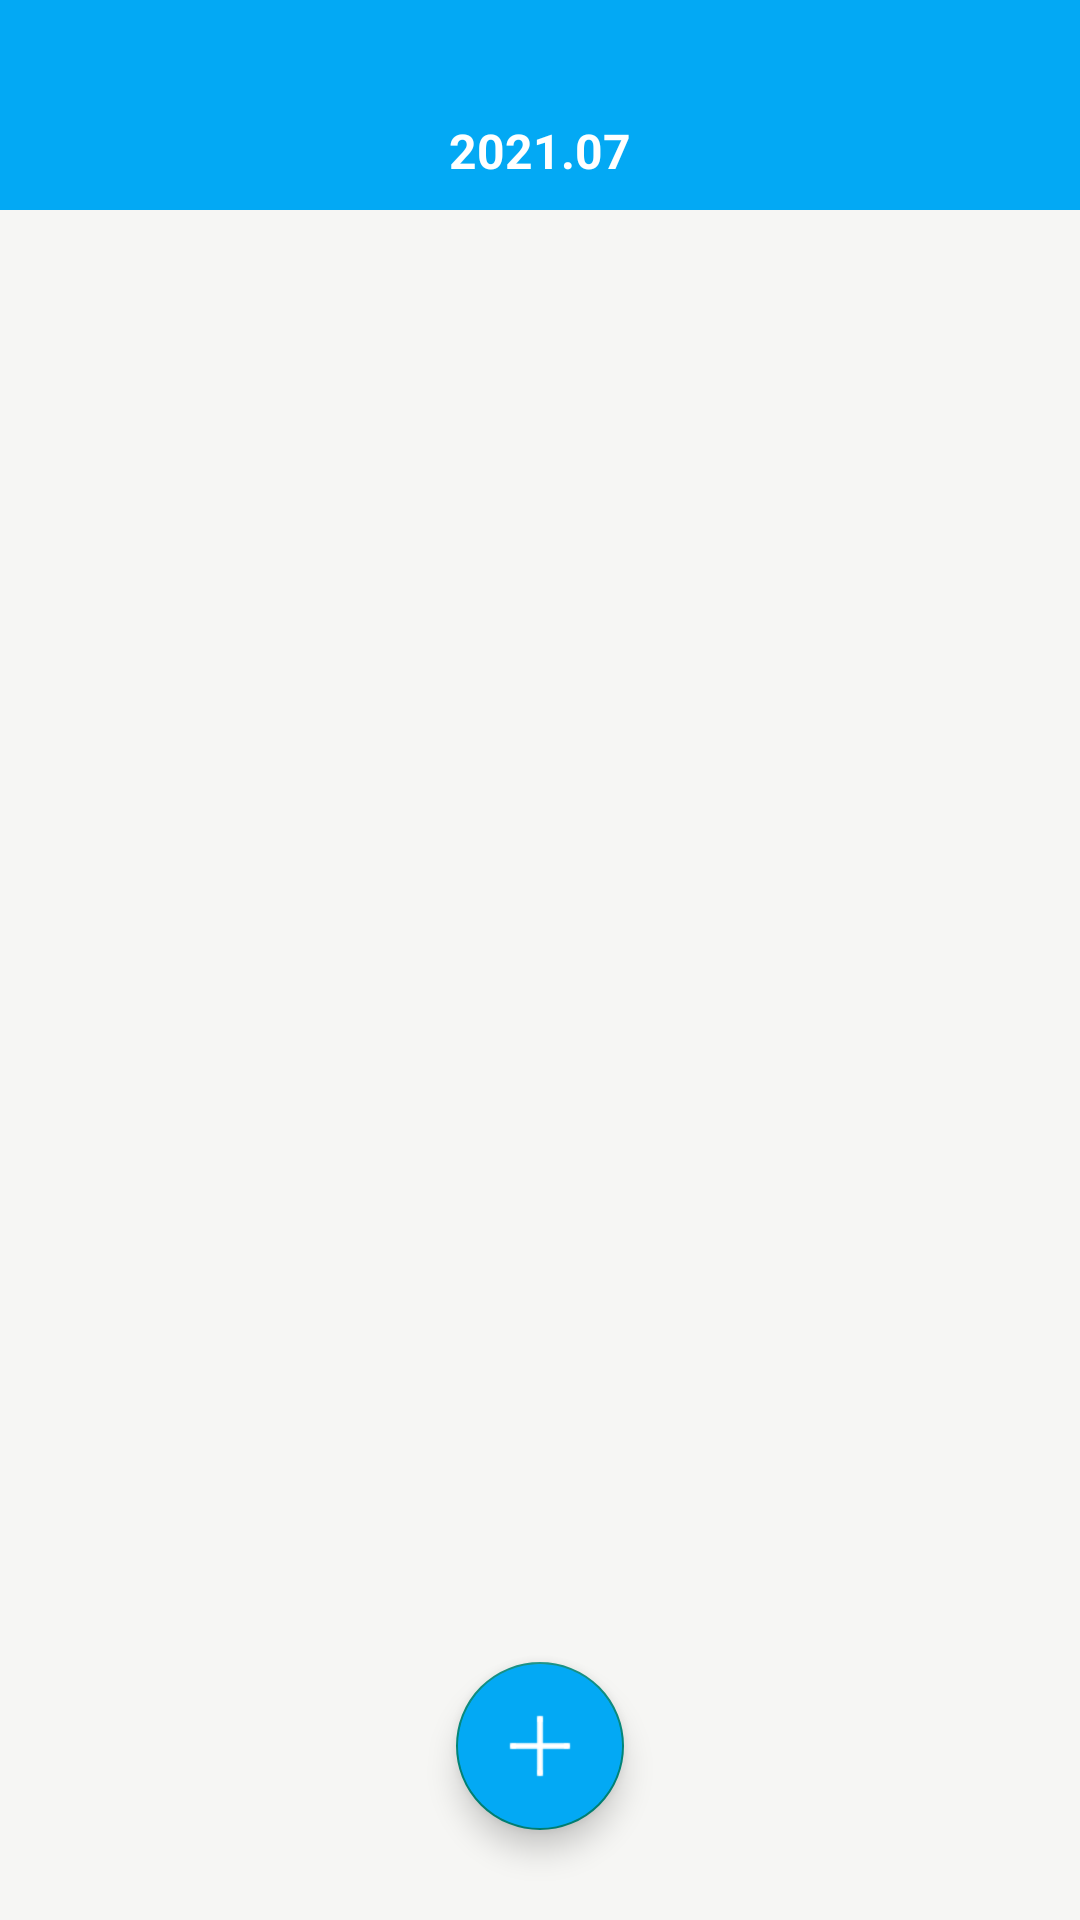

Named icons in this screenshot (1080*1920) and their bounding boxes, (x1, y1, x2, y2):
jia: (456, 1662, 624, 1830)
